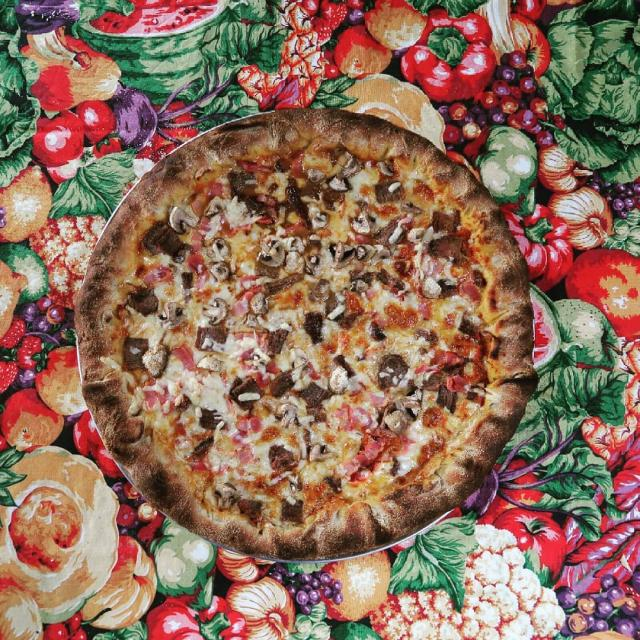mushrooms: (142, 344, 167, 377), (169, 206, 198, 234), (202, 298, 230, 326), (159, 301, 185, 331), (328, 242, 357, 268), (260, 241, 285, 267), (351, 212, 379, 235), (216, 483, 238, 509), (329, 365, 348, 395), (384, 411, 408, 434), (352, 243, 377, 262), (308, 445, 334, 462), (210, 262, 232, 282), (288, 347, 308, 368), (328, 176, 352, 193), (206, 196, 226, 216), (278, 404, 298, 424), (342, 157, 362, 177), (249, 292, 266, 315), (252, 348, 271, 367), (212, 239, 230, 259), (378, 161, 392, 178)
pizza: (71, 105, 540, 566)
